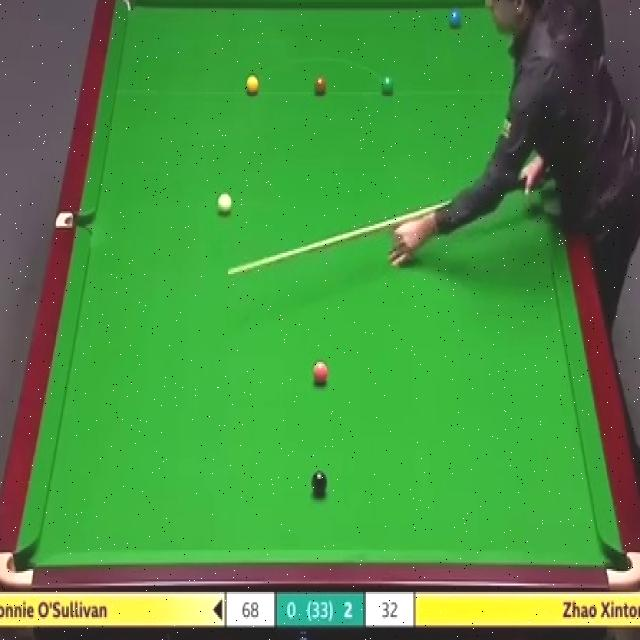black-ball: (310, 470, 328, 498)
blue-ball: (448, 9, 462, 27)
brown-ball: (312, 74, 328, 96)
green-ball: (379, 75, 394, 97)
pink-ball: (311, 361, 328, 385)
white-ball: (215, 188, 232, 215)
yellow-ball: (246, 73, 260, 95)
